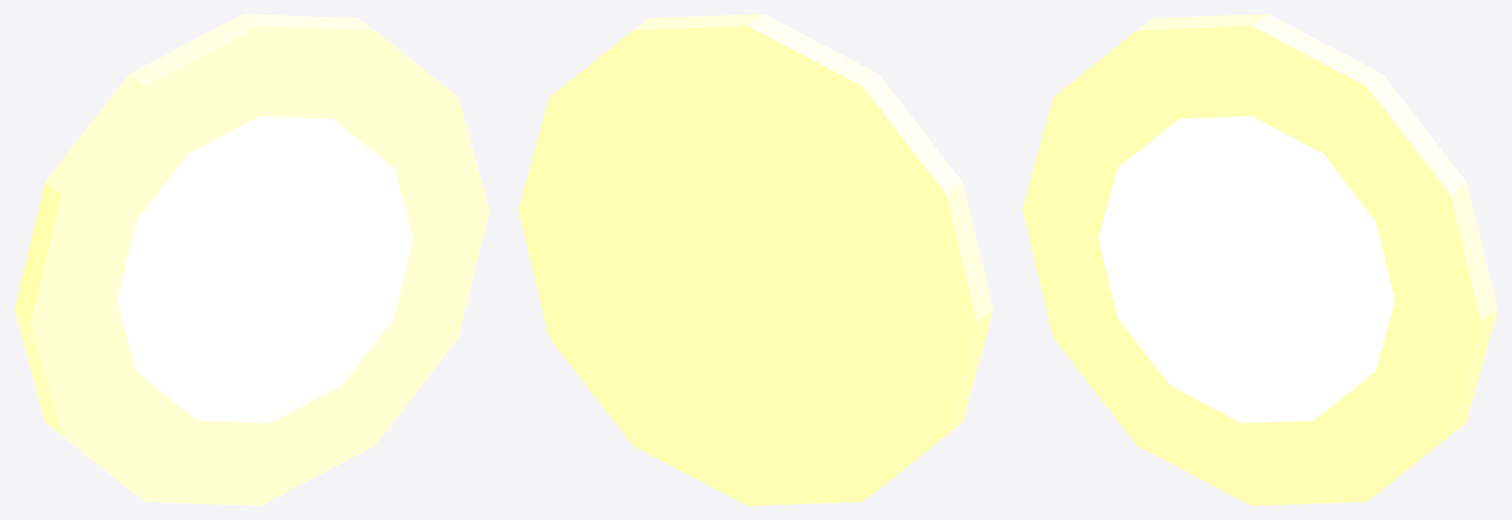
File: sun.glb
3 renders of one model, left to right at view 1: azimuth 30°, elevation 25°; view 2: azimuth 150°, elevation 25°; view 3: azimuth 330°, elevation 25°, orthographic.
Parts seen in each view (by area): view 1: Sun, Core; view 2: Sun; view 3: Sun, Core.
Part boxes in pixels (x1,y1,x2,y2): Sun: (14,14,489,505); Core: (117,116,413,423); Sun: (518,14,993,505); Sun: (1022,14,1497,505); Core: (1098,116,1394,423).
Size of the model in its own units: 1.6 by 1.6 by 0.16.
